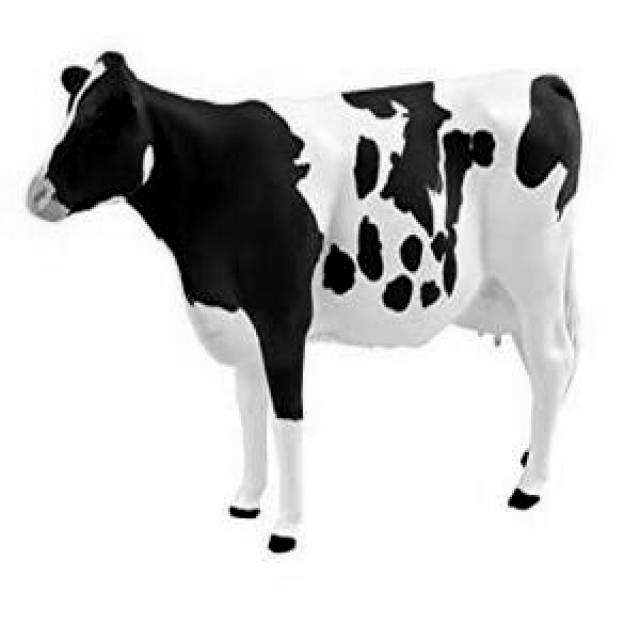COW: (28, 52, 581, 551)
